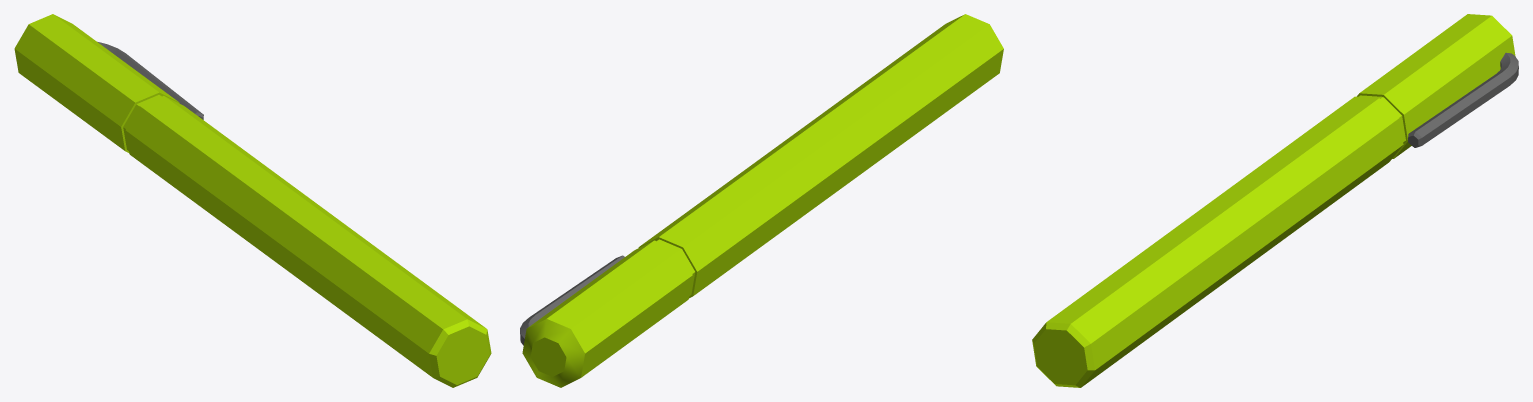
Rendered from Lapiz15.fbx.
The picture shows the model from 3 angles, left to right: view 1: azimuth 30°, elevation 25°; view 2: azimuth 150°, elevation 25°; view 3: azimuth 330°, elevation 25°; orthographic projection.
Visible parts, largest first — view 1: Lapiz15; view 2: Lapiz15; view 3: Lapiz15.
Boxes of the visible parts, <box> form: Lapiz15: <box>14,14,491,387</box>; Lapiz15: <box>520,14,1003,387</box>; Lapiz15: <box>1032,14,1518,387</box>.
Size of the model in its own units: 1.22 by 0.9121 by 10.59.
